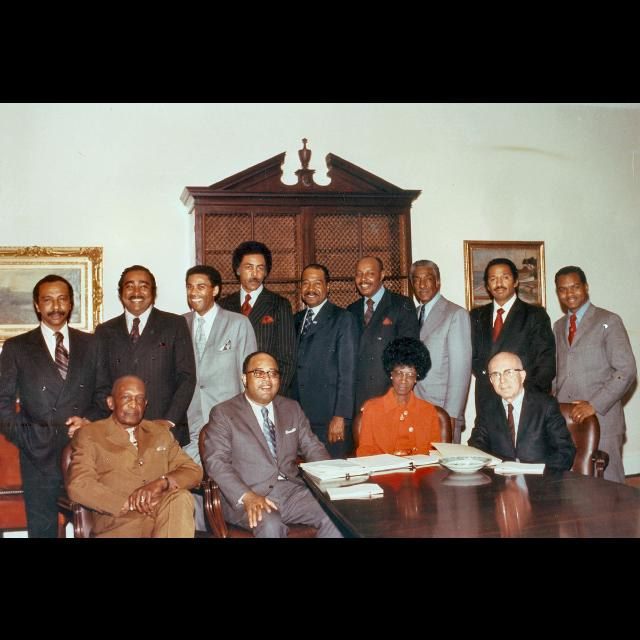head: (32, 274, 74, 326), (240, 351, 282, 403), (107, 376, 149, 424), (118, 264, 158, 312), (488, 351, 526, 399), (554, 264, 590, 310), (185, 265, 221, 311), (484, 257, 520, 301), (388, 356, 424, 396), (300, 262, 332, 306), (236, 250, 270, 290), (410, 260, 442, 302), (354, 256, 386, 296)
